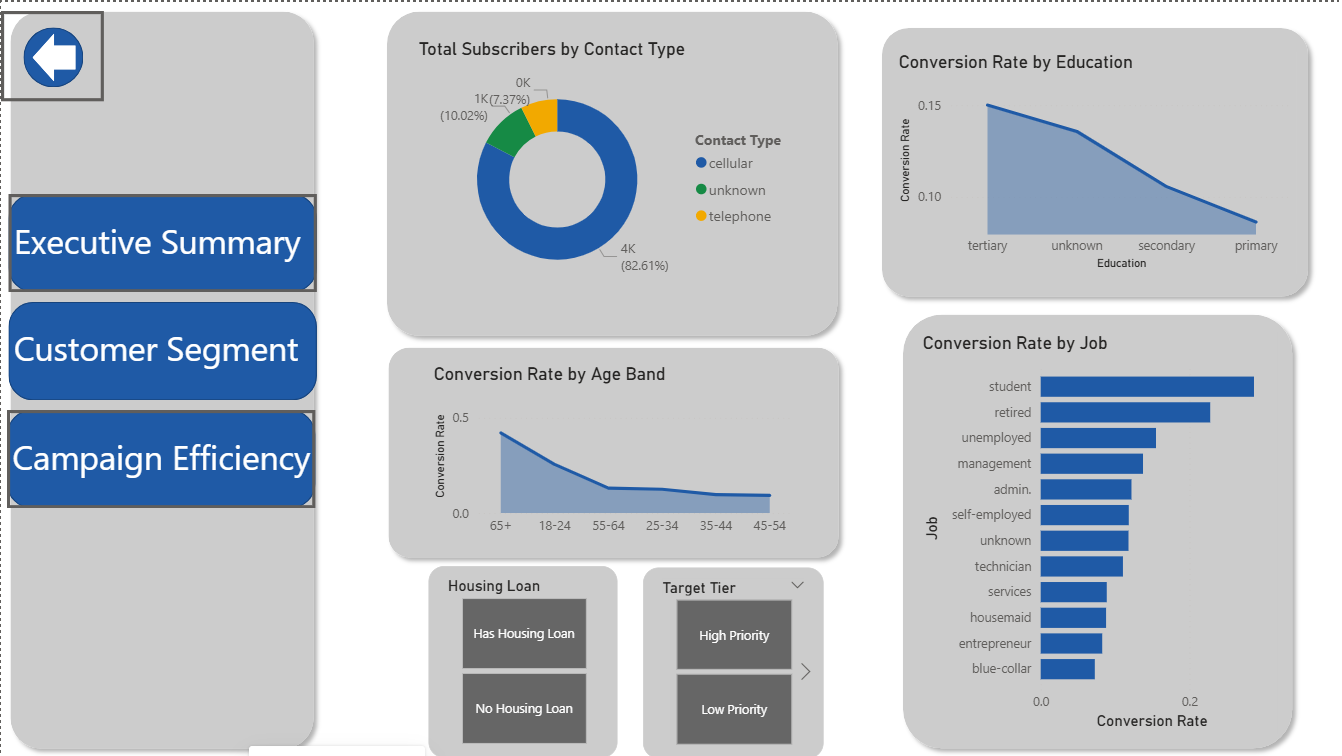

This screenshot's page, from the dashboard's own definition file:
{"tool":"powerbi","page":{"name":"Customer Segment","canvas":[1280,720],"ordinal":1},"visuals":[{"type":"shape","box":[829.6,16.2,423.8,273.8],"z":0},{"type":"shape","box":[0,0,306.7,720],"z":1000},{"type":"shape","box":[358.9,319.6,446.6,217.9],"z":1000,"group":"g1"},{"type":"shape","box":[850.2,288.9,388.8,431.2],"z":2000},{"type":"shape","box":[358,0,447.1,326.9],"z":3000,"group":"g1"},{"type":"areaChart","fields":{"Category":["Bank Marketing.Education"],"Y":["Bank Marketing.Conversion Rate"]},"box":[849.3,46.9,384,212],"z":3000},{"type":"barChart","fields":{"Category":["Bank Marketing.Job"],"Y":["Bank Marketing.Conversion Rate"]},"box":[872.7,313.9,342.5,382.5],"z":4000},{"type":"areaChart","fields":{"Category":["Bank Marketing.Age Band"],"Y":["Bank Marketing.Conversion Rate"]},"box":[407,343.7,350.1,172.1],"z":4000,"group":"g1"},{"type":"slicer","fields":{"Values":["Bank Marketing.Housing Loan"]},"box":[407.7,537.5,180,182.5],"z":5000},{"type":"group","id":"g1","title":"Group 1","box":[358,0,446,538],"z":6000},{"type":"donutChart","fields":{"Category":["Bank Marketing.Contact Type"],"Y":["Bank Marketing.Total Subscribers"]},"box":[392.4,34.4,372,249.5],"z":6000,"group":"g1"},{"type":"slicer","fields":{"Values":["Bank Marketing.Target Tier"]},"box":[611,538.3,171.7,181.7],"z":7000},{"type":"group","id":"g2","title":"Group 3","box":[7.3,183.6,293.8,93.6],"z":8000},{"type":"group","id":"g3","title":"Group 3","box":[7.3,286.4,293.8,93.6],"z":9000},{"type":"group","id":"g4","title":"Group 3","box":[6,388,306.7,93.6],"z":10000},{"type":"shape","box":[21.9,24.8,57,57],"z":11000},{"type":"shape","box":[30,30.5,41,45.6],"z":12000},{"type":"actionButton","box":[0,8,98,86],"z":12001},{"type":"shape","box":[7.4,183.6,293.7,93.6],"z":13000,"group":"g2"},{"type":"shape","box":[7.4,286.4,293.7,93.6],"z":13000,"group":"g3"},{"type":"shape","box":[6,388,293.7,93.6],"z":13000,"group":"g4"},{"type":"textbox","box":[7.3,200,291.8,60],"z":13500,"group":"g2"},{"type":"textbox","box":[7.3,302.8,291.8,60],"z":13500,"group":"g3"},{"type":"textbox","box":[6.4,404.5,306.4,60],"z":13500,"group":"g4"},{"type":"actionButton","box":[7.4,183.6,293.7,93.6],"z":14000,"group":"g2"},{"type":"actionButton","box":[6,388,293.7,93.6],"z":14000,"group":"g4"}]}

Visuals, with their boxes in screenshot pixels (x1, y1, x2, y2), scaled from the page's 1280x720 canvas onto the 1342x756 screenshot:
shape: [870,17,1314,304]
shape: [0,0,322,755]
shape: [376,336,845,564]
shape: [891,303,1299,755]
shape: [375,0,844,343]
areaChart - Bank Marketing.Education x Bank Marketing.Conversion Rate: [890,49,1293,272]
barChart - Bank Marketing.Job x Bank Marketing.Conversion Rate: [915,330,1274,731]
areaChart - Bank Marketing.Age Band x Bank Marketing.Conversion Rate: [427,361,794,542]
slicer - Bank Marketing.Housing Loan: [427,564,616,755]
"Group 1" group: [375,0,843,565]
donutChart - Bank Marketing.Contact Type x Bank Marketing.Total Subscribers: [411,36,801,298]
slicer - Bank Marketing.Target Tier: [641,565,821,755]
"Group 3" group: [8,193,316,291]
"Group 3" group: [8,301,316,399]
"Group 3" group: [6,407,328,506]
shape: [23,26,83,86]
shape: [31,32,74,80]
actionButton: [0,8,103,99]
shape: [8,193,316,291]
shape: [8,301,316,399]
shape: [6,407,314,506]
textbox: [8,210,314,273]
textbox: [8,318,314,381]
textbox: [7,425,328,488]
actionButton: [8,193,316,291]
actionButton: [6,407,314,506]
